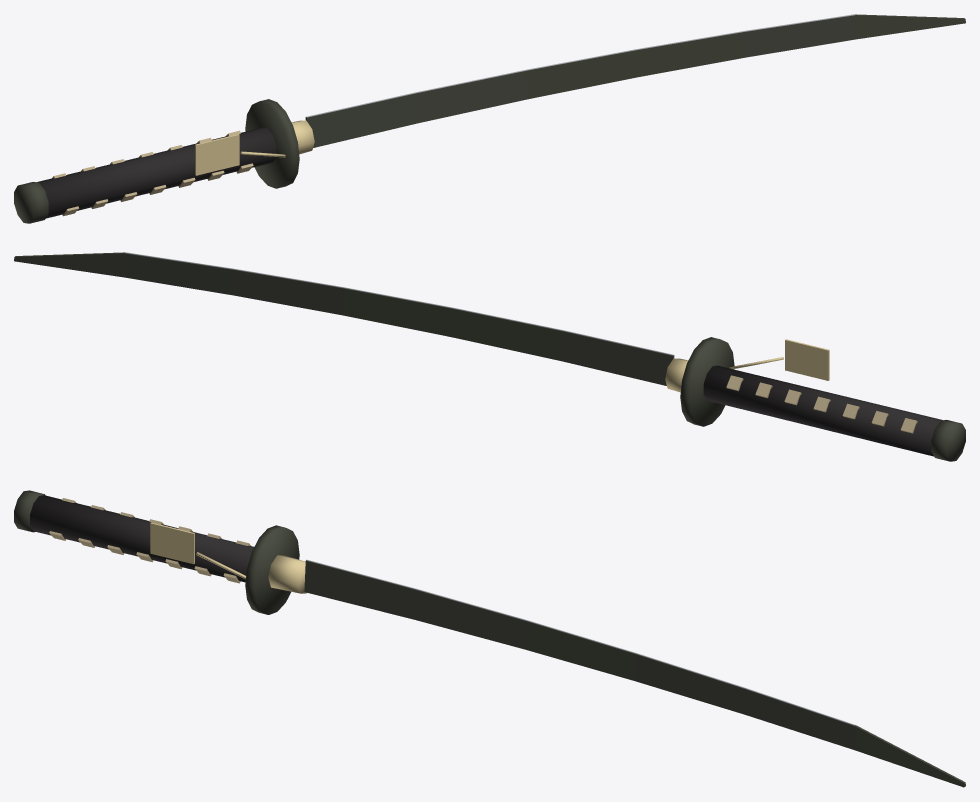
The model's file is item_pawn_shop_katana.glb.
3 renders of one model, top to bottom at view 1: azimuth 30°, elevation 25°; view 2: azimuth 150°, elevation 25°; view 3: azimuth 330°, elevation 25°, orthographic.
Visible parts, largest first — view 1: blade, grip, tsuba, tag, pommel, edge, habaki; view 2: blade, grip, tsuba, tag, pommel, edge, habaki; view 3: blade, grip, tsuba, tag, habaki, edge, pommel.
Part boxes in pixels (box(x1,y1,x2,y2)): blade: box(305, 14, 965, 147); grip: box(37, 127, 276, 218); tsuba: box(245, 99, 299, 188); tag: box(195, 134, 239, 175); pommel: box(14, 182, 48, 223); edge: box(306, 14, 855, 117); habaki: box(291, 120, 314, 154); blade: box(14, 252, 674, 385); grip: box(703, 365, 942, 456); tsuba: box(680, 337, 734, 426); tag: box(785, 339, 829, 380); pommel: box(931, 420, 965, 461); edge: box(124, 252, 673, 355); habaki: box(665, 358, 688, 392); blade: box(304, 560, 965, 787); grip: box(30, 495, 253, 582); tsuba: box(245, 525, 299, 614); tag: box(150, 522, 194, 564); habaki: box(268, 555, 306, 593); edge: box(306, 559, 855, 725); pommel: box(14, 490, 45, 532).
Bounding box in the file's own units: 0.972 × 0.087 × 0.0812.
